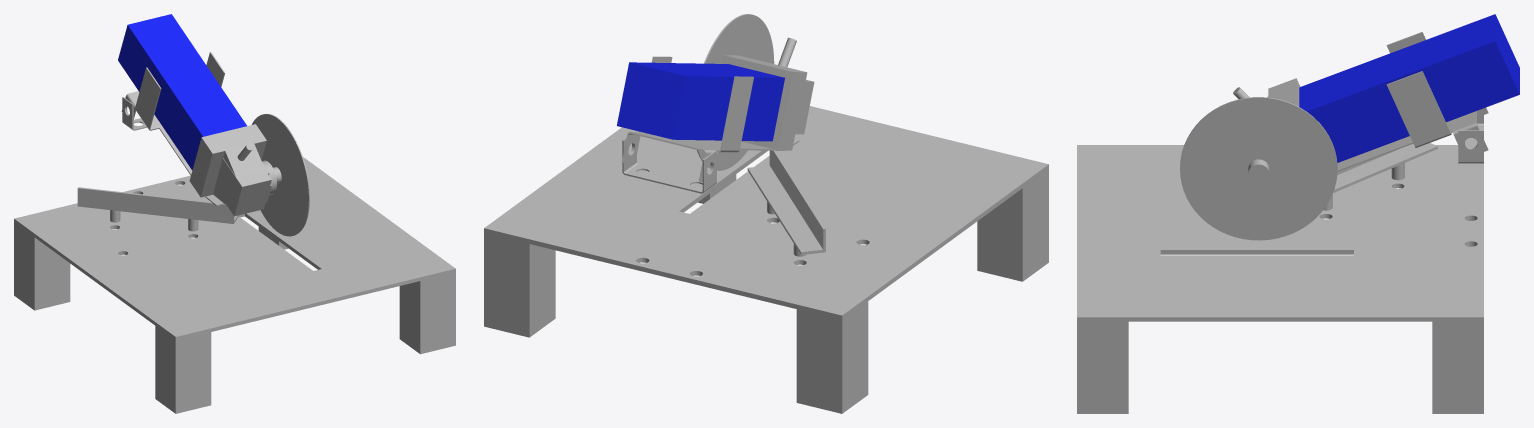
The model's file is AMOLADORA.glb.
The picture shows the model from 3 angles, left to right: view 1: azimuth 30°, elevation 25°; view 2: azimuth 150°, elevation 25°; view 3: azimuth 270°, elevation 25°; orthographic projection. The views are drawn at different scales.
Parts seen in each view (by area): view 1: Sólido1 (×5), Sólido2 (×2), Sólido6, Sólido3, Sólido4; view 2: Sólido1 (×5), Sólido2 (×2), Sólido6, Sólido3; view 3: Sólido1 (×5), Sólido6, Sólido2, Sólido3.
Boxes of the visible parts, x1,y1,x2,y2 form: Sólido1 (×5): [14, 52, 455, 340]; Sólido2 (×2): [14, 158, 455, 413]; Sólido6: [118, 14, 246, 170]; Sólido3: [189, 124, 266, 197]; Sólido4: [213, 144, 264, 205]; Sólido1 (×5): [484, 14, 1048, 319]; Sólido2 (×2): [484, 79, 1048, 413]; Sólido6: [617, 62, 784, 141]; Sólido3: [722, 55, 807, 150]; Sólido1 (×5): [1077, 32, 1488, 321]; Sólido6: [1299, 14, 1519, 162]; Sólido2: [1077, 220, 1483, 413]; Sólido3: [1268, 78, 1300, 106].
Size of the model in its own units: 0.4 by 0.3258 by 0.4352.
